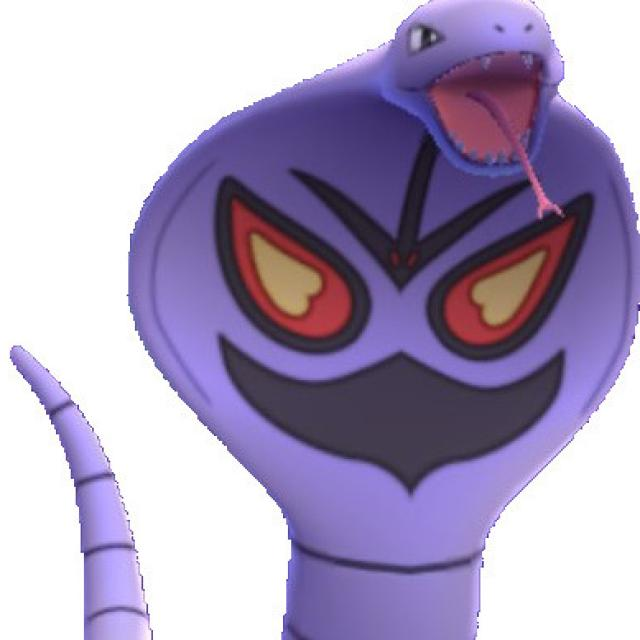Arbok: (183, 13, 630, 604)
